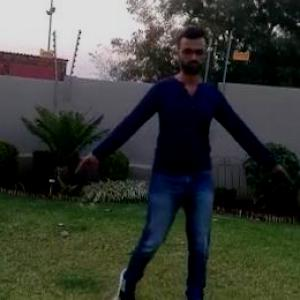land: (85, 37, 280, 299)
